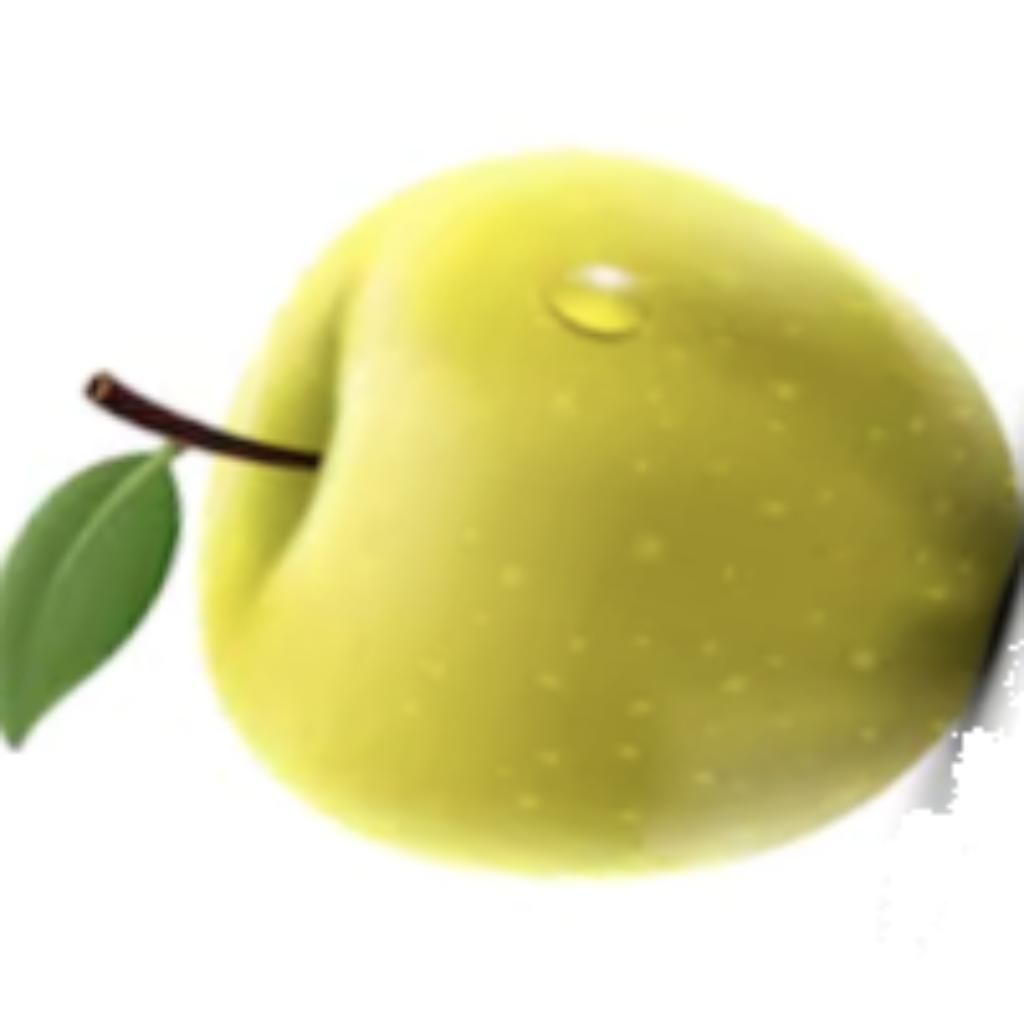apple: (72, 138, 1019, 886)
